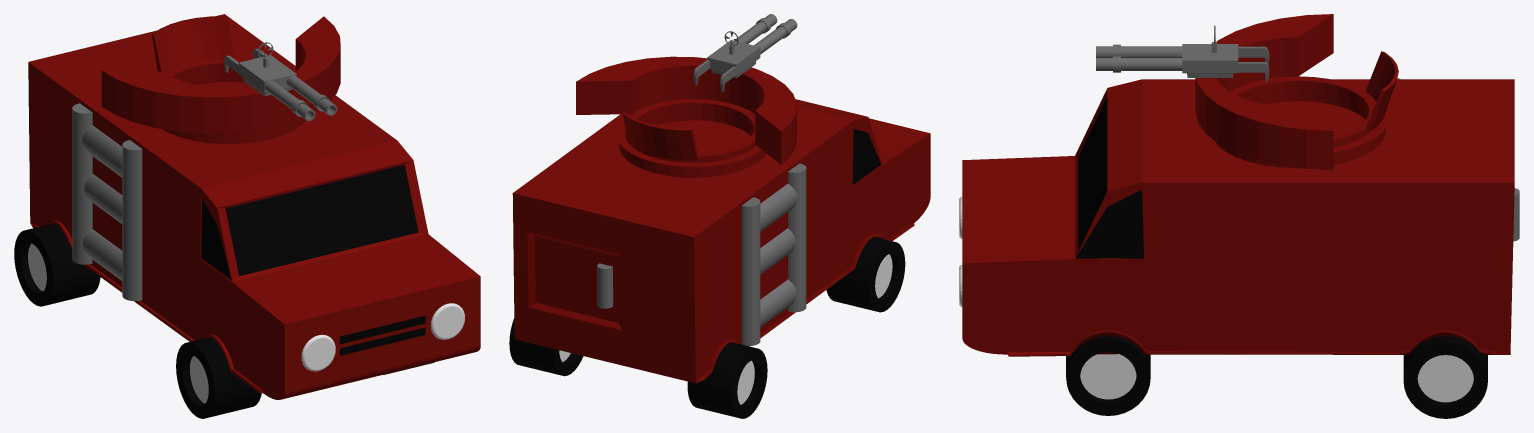
File: Gun_Car1.fbx
3 renders of one model, left to right at view 1: azimuth 30°, elevation 25°; view 2: azimuth 150°, elevation 25°; view 3: azimuth 270°, elevation 25°, orthographic. The views are drawn at different scales.
Parts seen in each view (by area): view 1: Cube, Circle.006, Circle.001; view 2: Cube, Circle.006, Circle.001, Cylinder; view 3: Cube, Circle.006, Circle.001.
Part boxes in pixels (left/top/right/bottom): Cube: left=14, top=14, right=480, bottom=418; Circle.006: left=101, top=16, right=340, bottom=143; Circle.001: left=224, top=42, right=337, bottom=121; Cube: left=509, top=99, right=930, bottom=418; Circle.006: left=576, top=56, right=796, bottom=177; Circle.001: left=693, top=14, right=797, bottom=91; Cylinder: left=597, top=263, right=613, bottom=308; Cube: left=959, top=78, right=1514, bottom=418; Circle.006: left=1195, top=14, right=1398, bottom=169; Circle.001: left=1096, top=25, right=1269, bottom=81.
Size of the model in its own units: 244 by 300 by 459.
